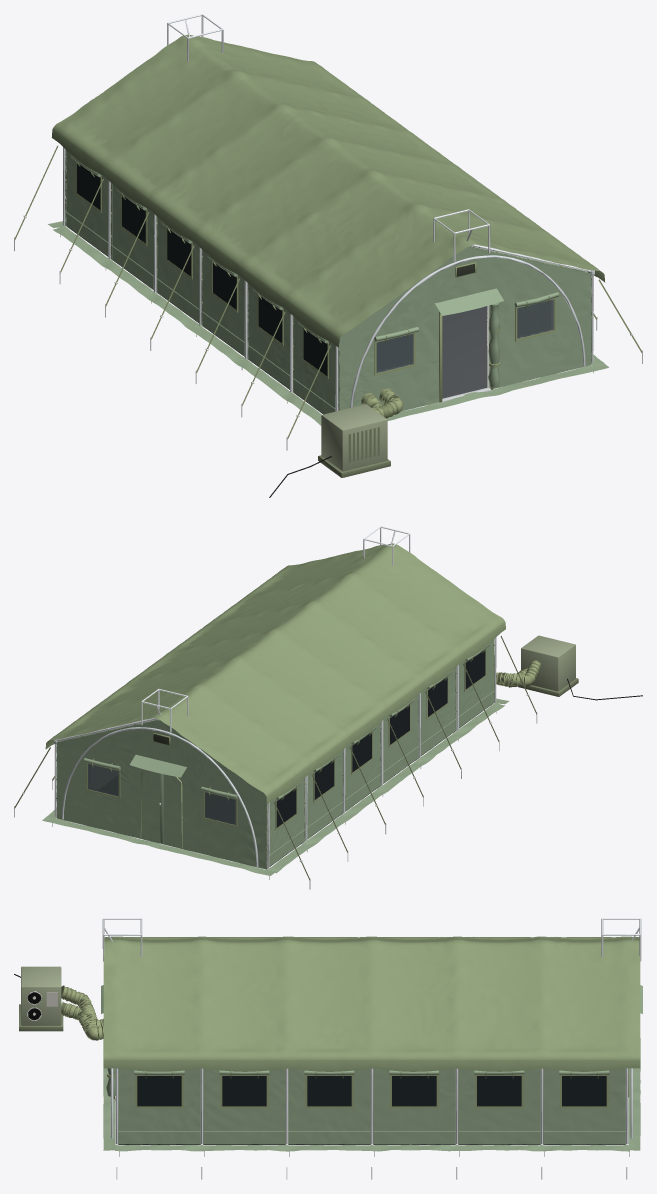
The model's file is rdmss-camp.glb.
3 renders of one model, top to bottom at view 1: azimuth 30°, elevation 25°; view 2: azimuth 150°, elevation 25°; view 3: azimuth 270°, elevation 25°, orthographic. The views are drawn at different scales.
Parts seen in each view (by area): view 1: RDMSS_solar_shade, RDMSS_shelter, RDMSS_frame; view 2: RDMSS_solar_shade, RDMSS_shelter, RDMSS_frame; view 3: RDMSS_solar_shade, RDMSS_shelter, RDMSS_frame.
Part boxes in pixels (left/top/right/bottom): RDMSS_solar_shade: left=14, top=34, right=642, bottom=450; RDMSS_shelter: left=48, top=150, right=608, bottom=497; RDMSS_frame: left=60, top=14, right=594, bottom=411; RDMSS_solar_shade: left=14, top=543, right=537, bottom=889; RDMSS_shelter: left=42, top=635, right=642, bottom=875; RDMSS_frame: left=52, top=526, right=496, bottom=879; RDMSS_solar_shade: left=103, top=936, right=640, bottom=1179; RDMSS_shelter: left=14, top=966, right=642, bottom=1151; RDMSS_frame: left=102, top=918, right=641, bottom=1156.
Size of the model in its own units: 10.37 by 4.26 by 14.1.
